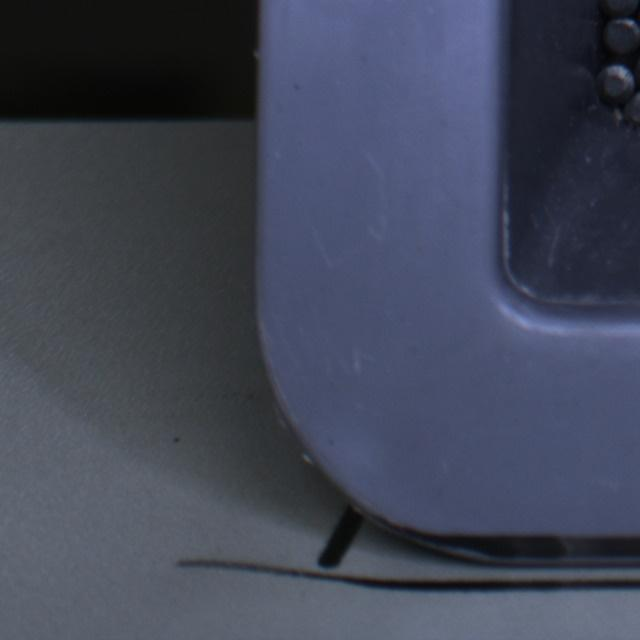tool: (596, 62, 635, 101), (604, 18, 640, 54)
